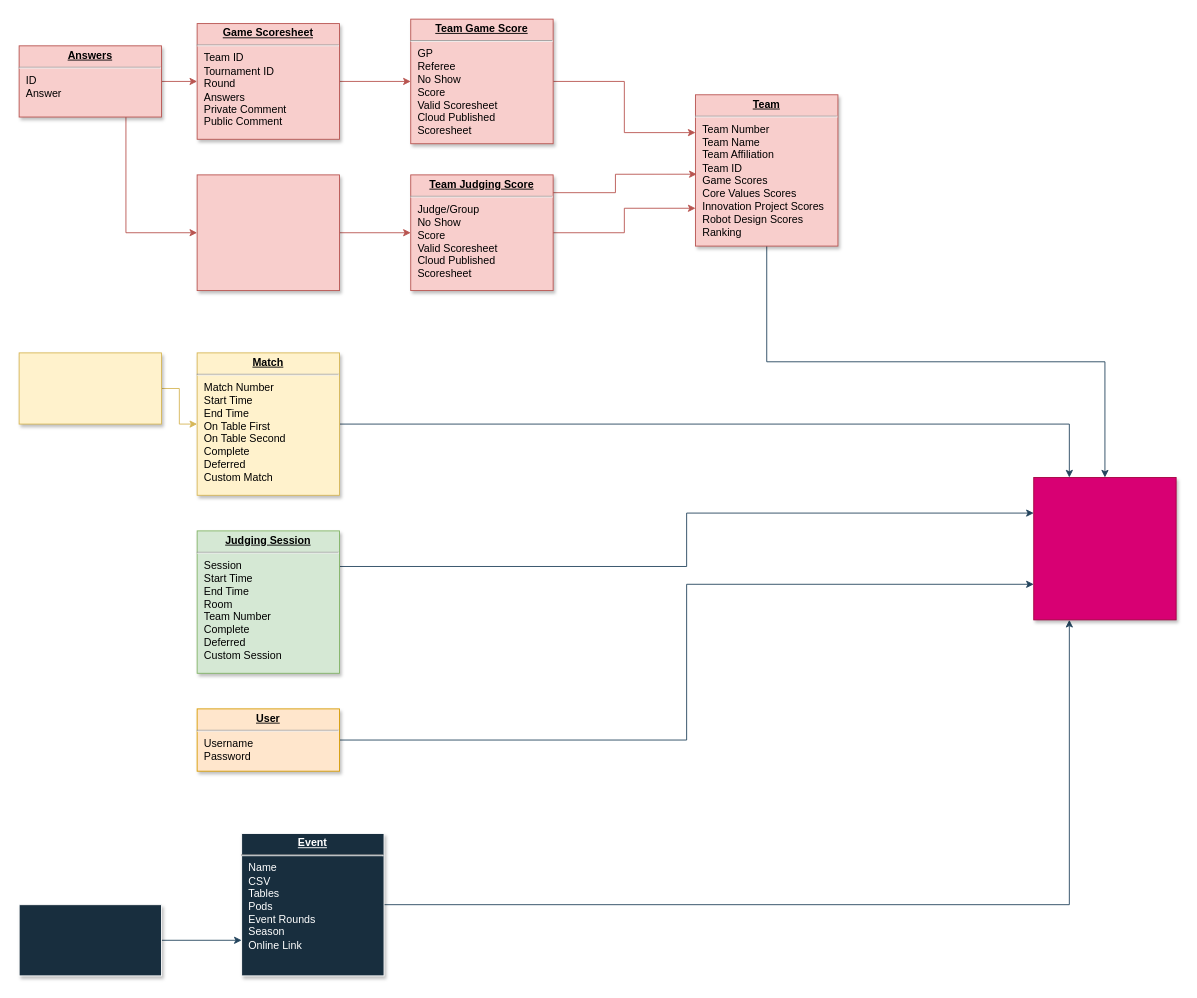
Some shapes in this 1197 by 998 pixel diagram are drawn without their labels. The centre of each missing label's shape, as x and y in pixels:
"Judging Scoresheet Team ID Tournament ID Answers Feedback Pos Feedback Crit" goes at pixel 269 233.
"On Table Table Team Number Score Submitted" goes at pixel 91 389.
"Online Link Tournament ID Tournament Token Linked" goes at pixel 91 941.
"TMS DB Teams Matches Judging Sessions Users Event" goes at pixel 1105 549.
